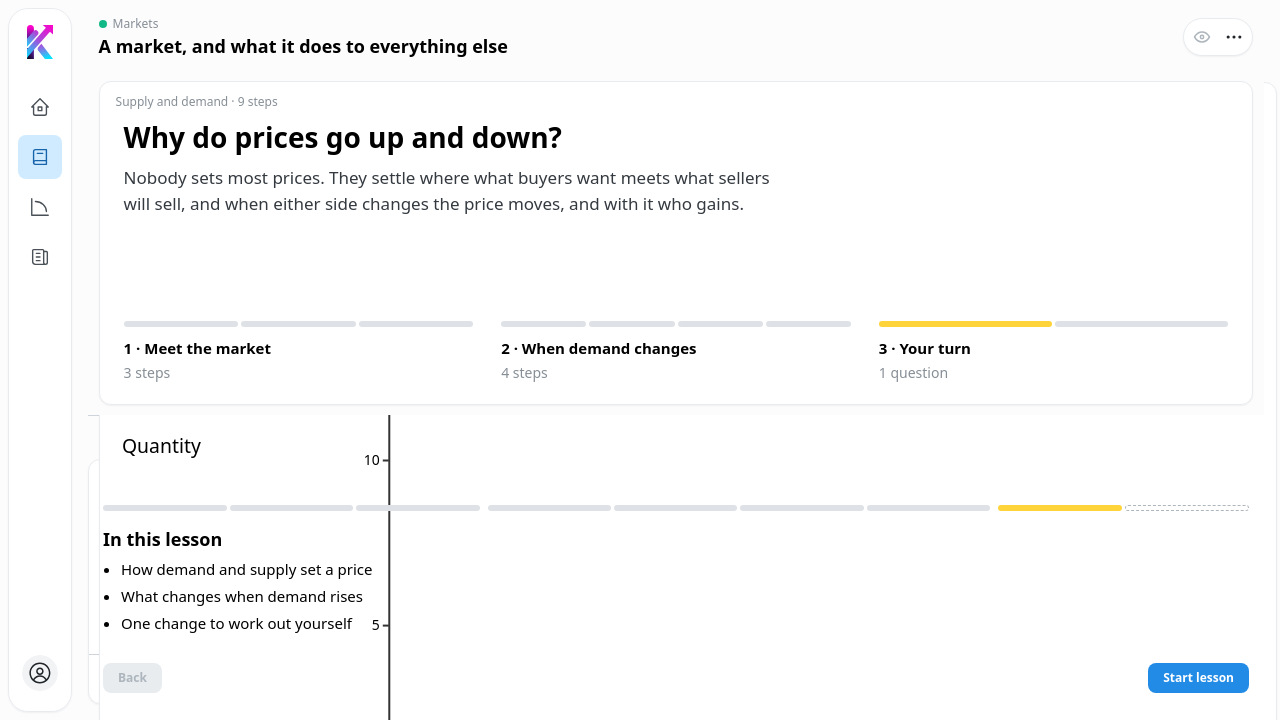
Scenario: Present on a phone › is not offered, on the line or in its menu
Step 1. Click the button named "More" → (1234, 37), box [1219,22,1249,52]
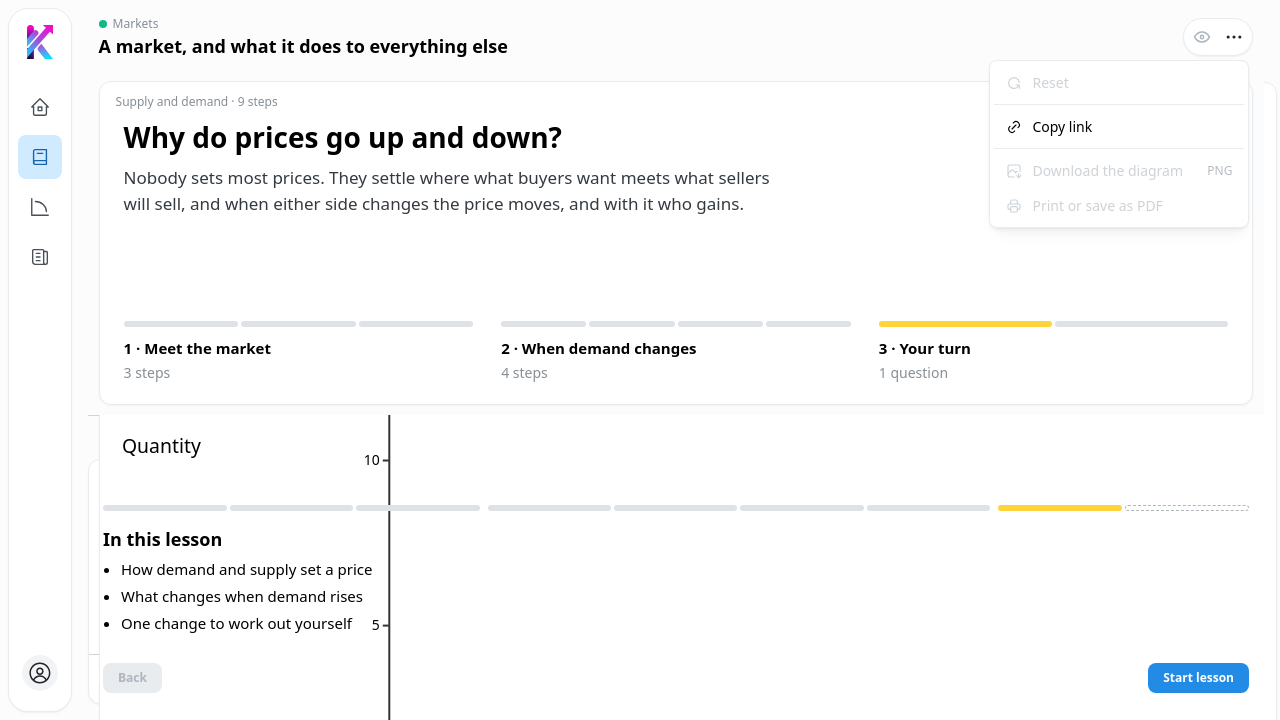
Check: the menu item "Reset" is shown, box [994,65,1244,100]
